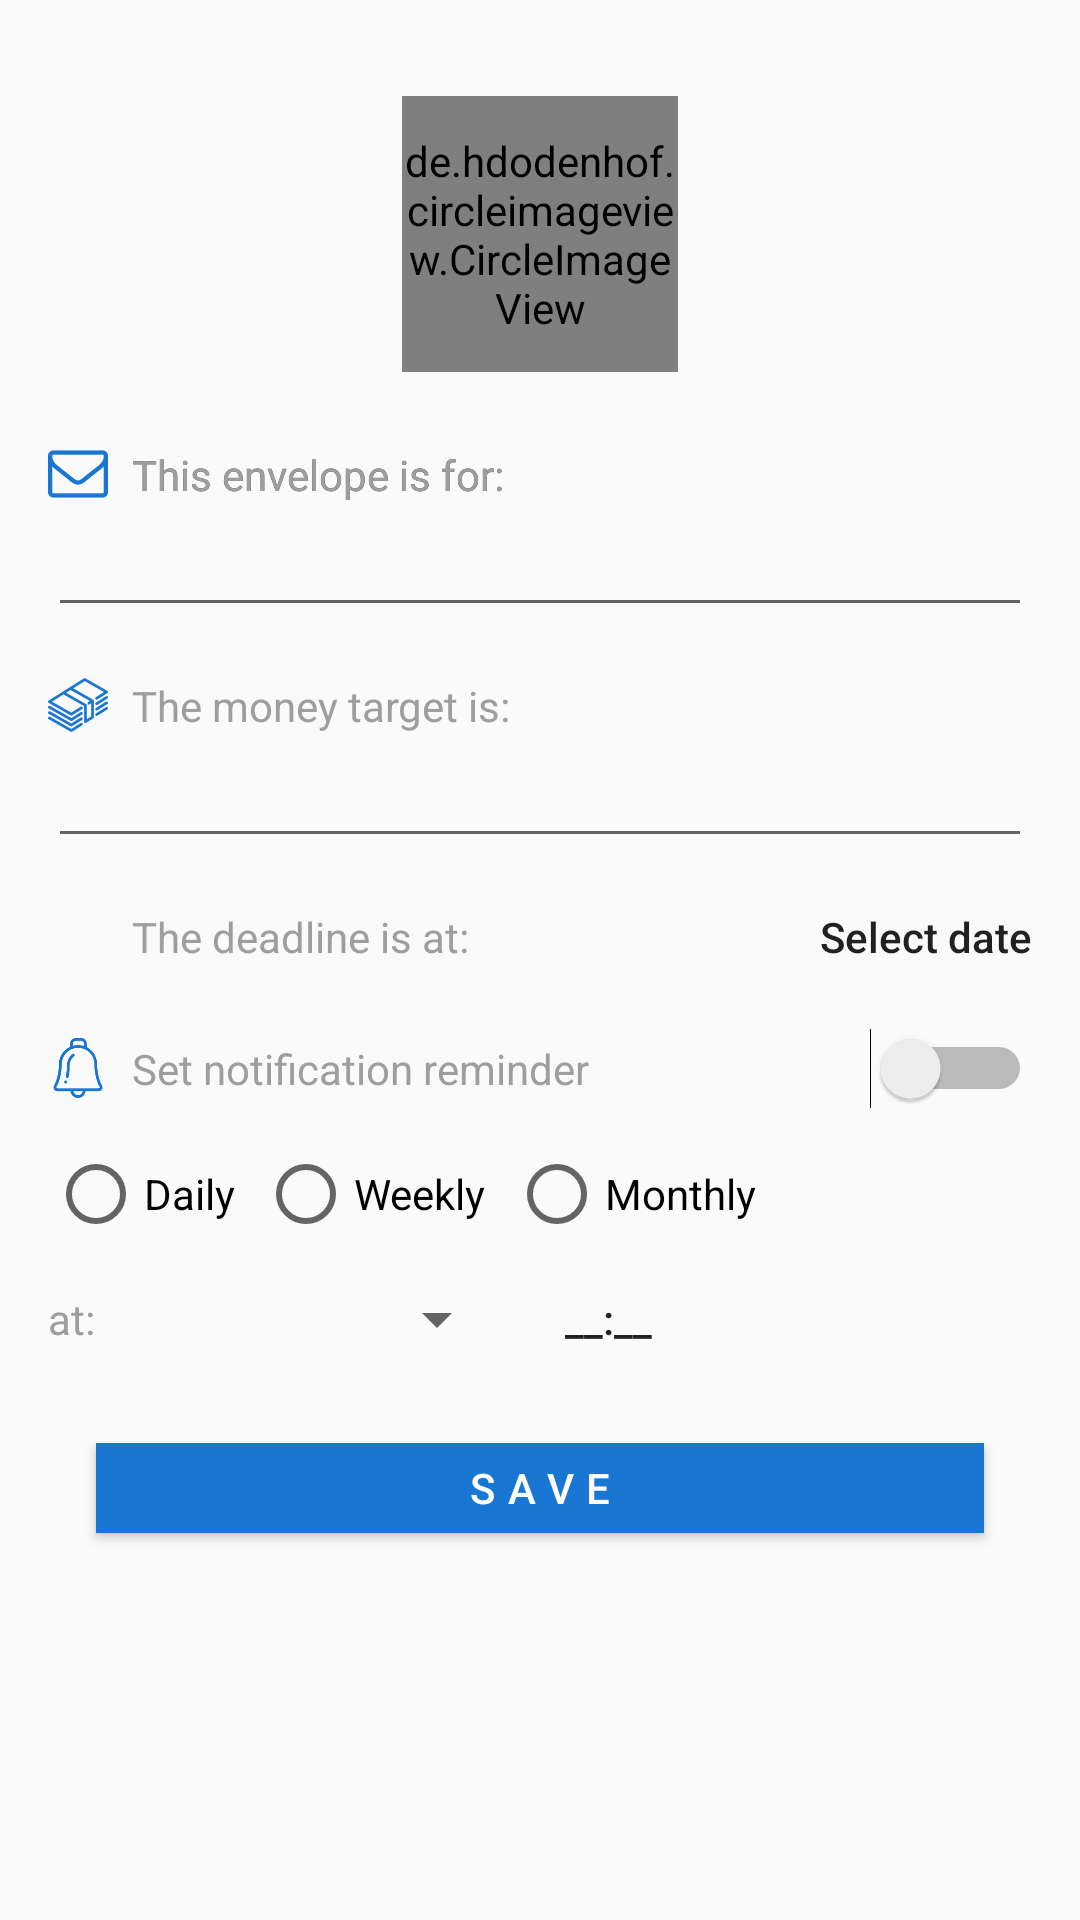

Screen size 1080px×1920px. Icon name, then its box in pixels as {"left": x1, "top": y1, "right": x2, "bottom": y2}:
funds: {"left": 48, "top": 678, "right": 108, "bottom": 732}
